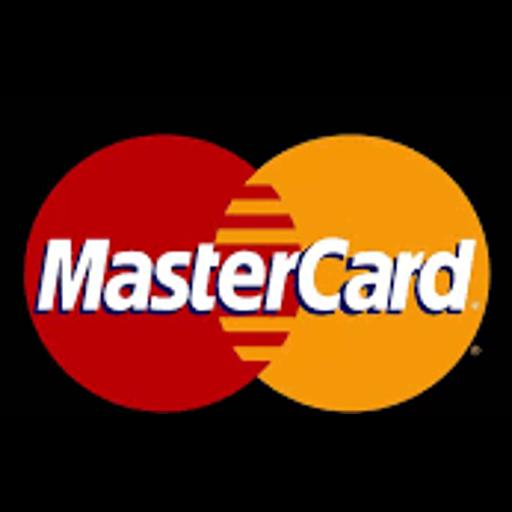Mastercard International: (0, 98, 512, 414)
